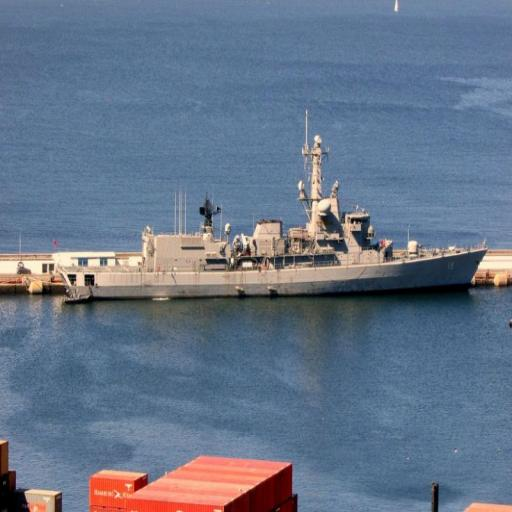Fragata: (72, 107, 491, 299)
